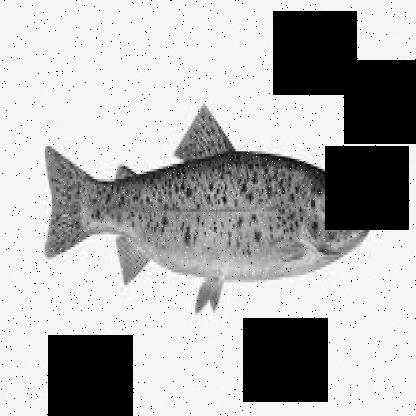fish: (43, 96, 371, 316)
